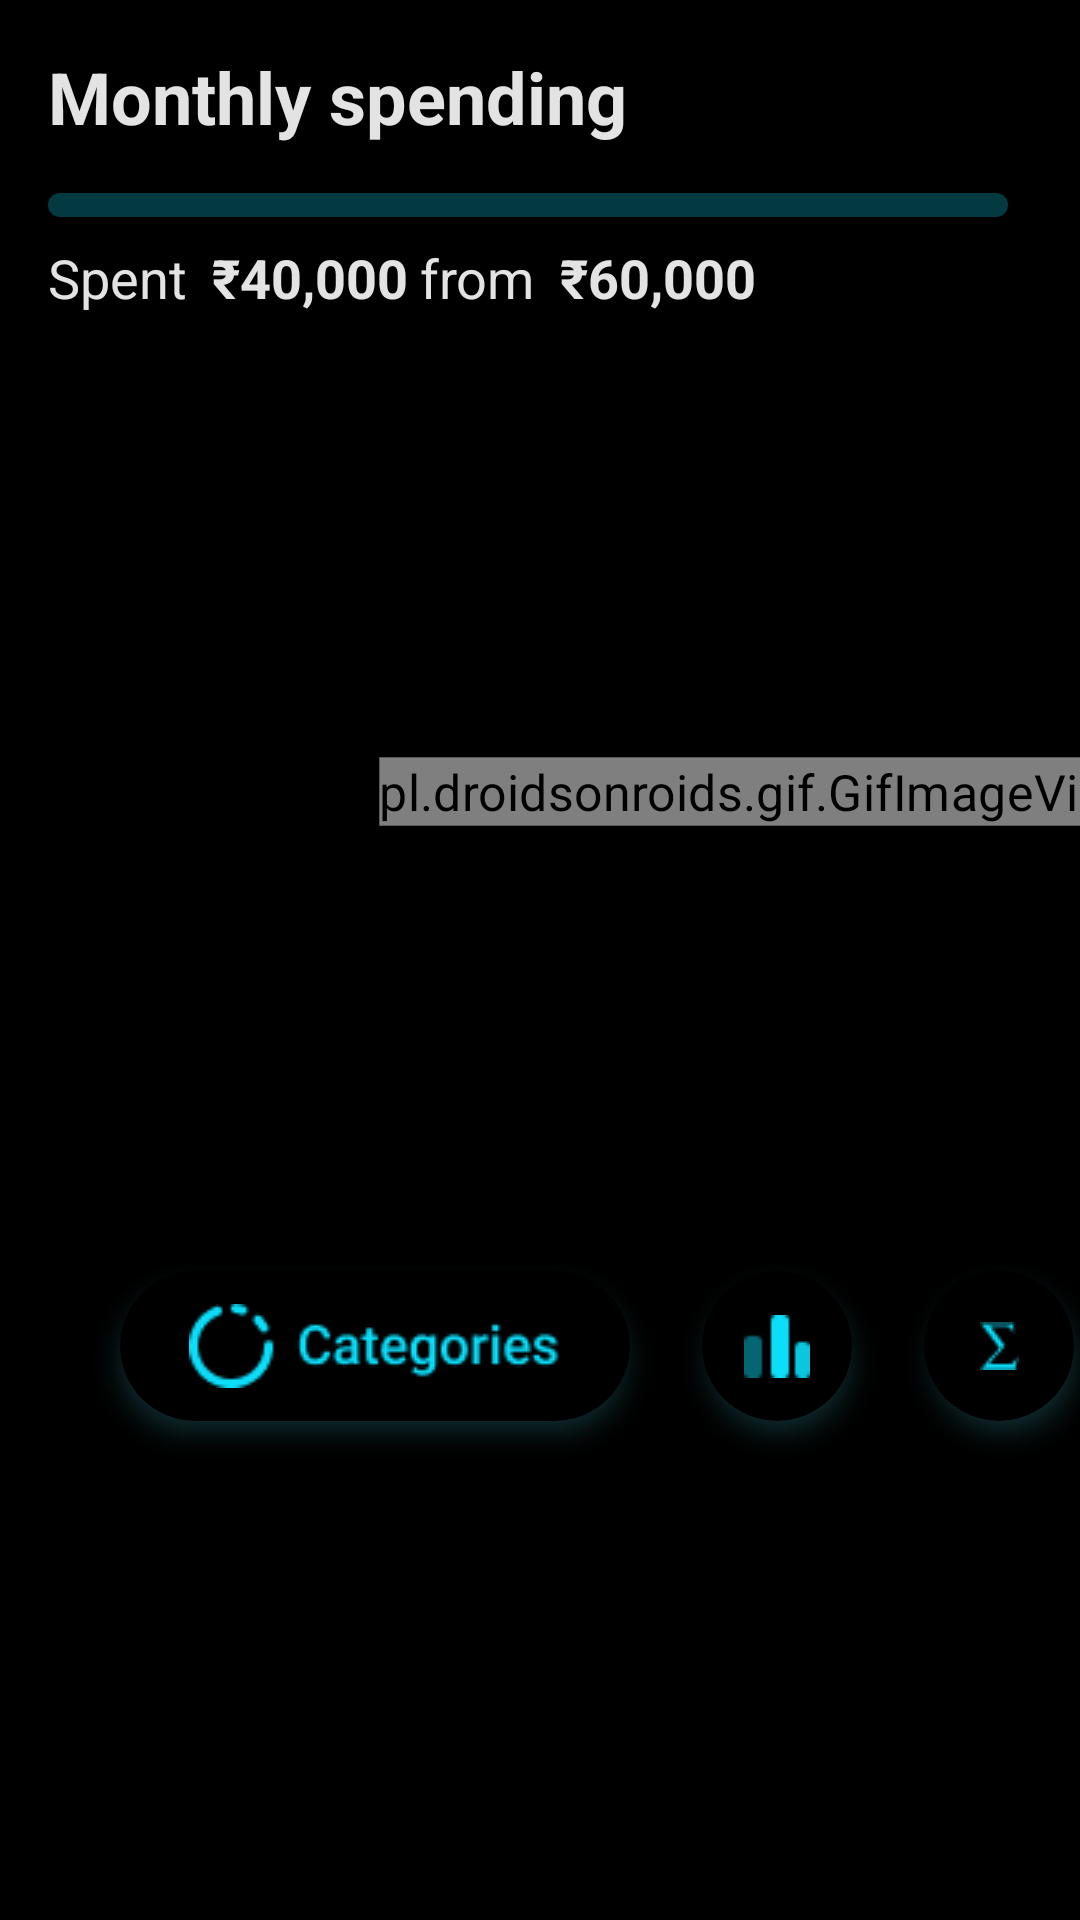

Named icons in this screenshot (1080 x 1920) and their centers, (x,y):
sigma: (999,1346)
